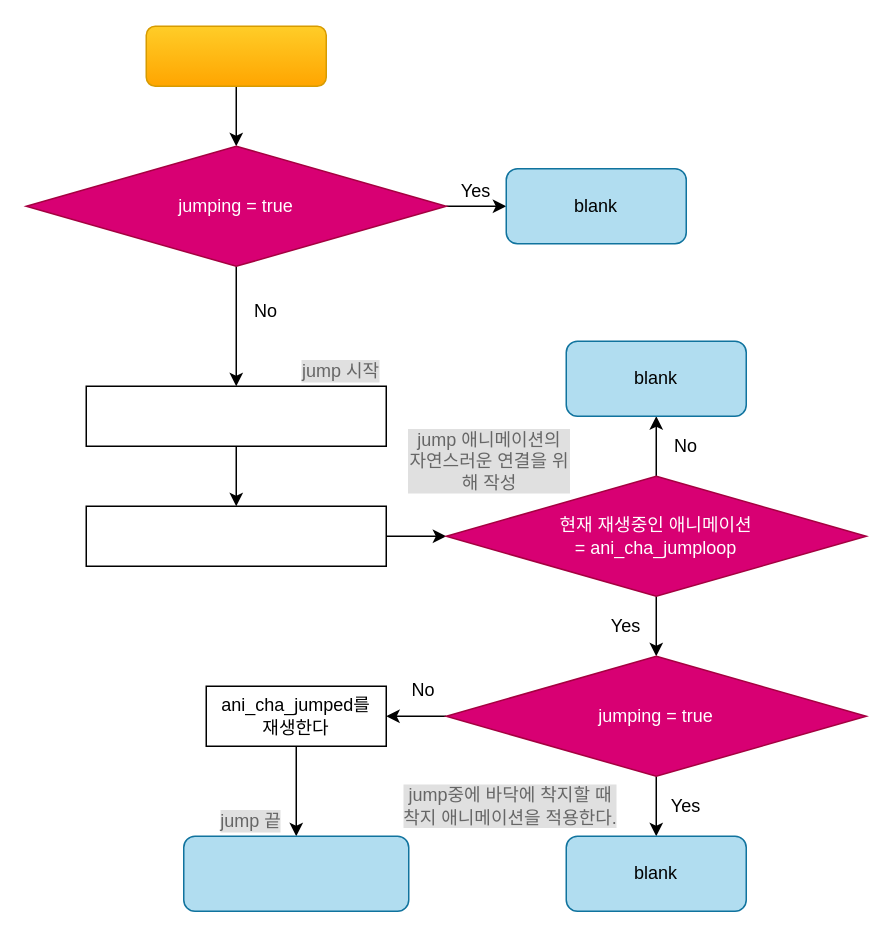
Image size: 893x938. Some labels were removed from this diagram. The centre of each missing label's shape, as x and y in pixels:
(0,0,jumppwer)만큼의 힘을 가하고, ani_cha_jumpstart를 재생한다.: the point at 235,415
ani_cha_jumped가 끝나면 ani_cha_stand를 반복 재생한다: the point at 295,873
ani_cha_jumpstart가 끝나면 ani_cha_jumploop를 반복재생 시작한다.: the point at 235,535
Z 입력시: the point at 235,55
